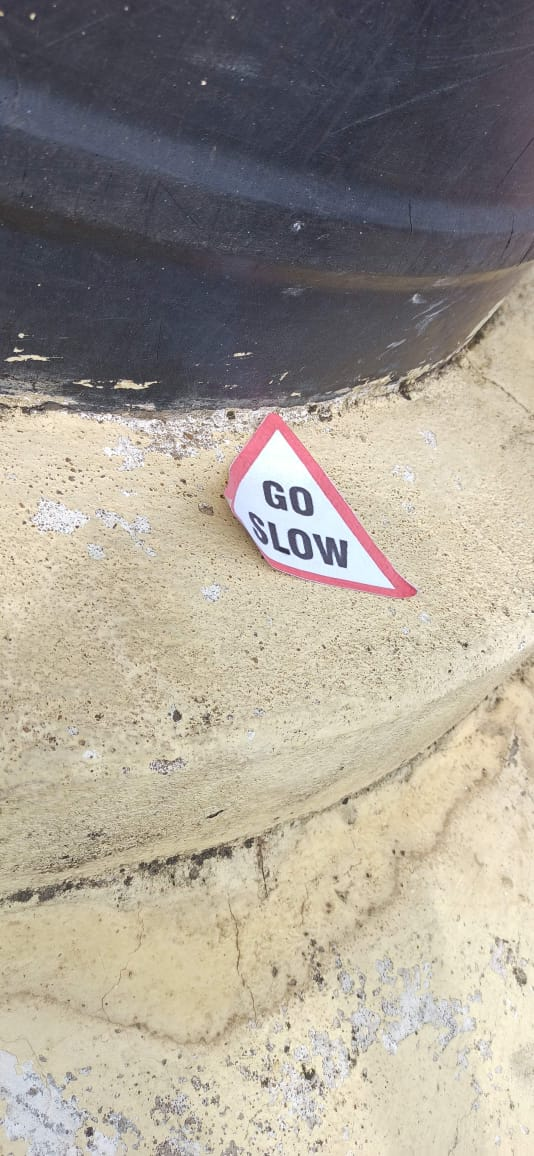GO SLOW: (211, 393, 427, 615)
